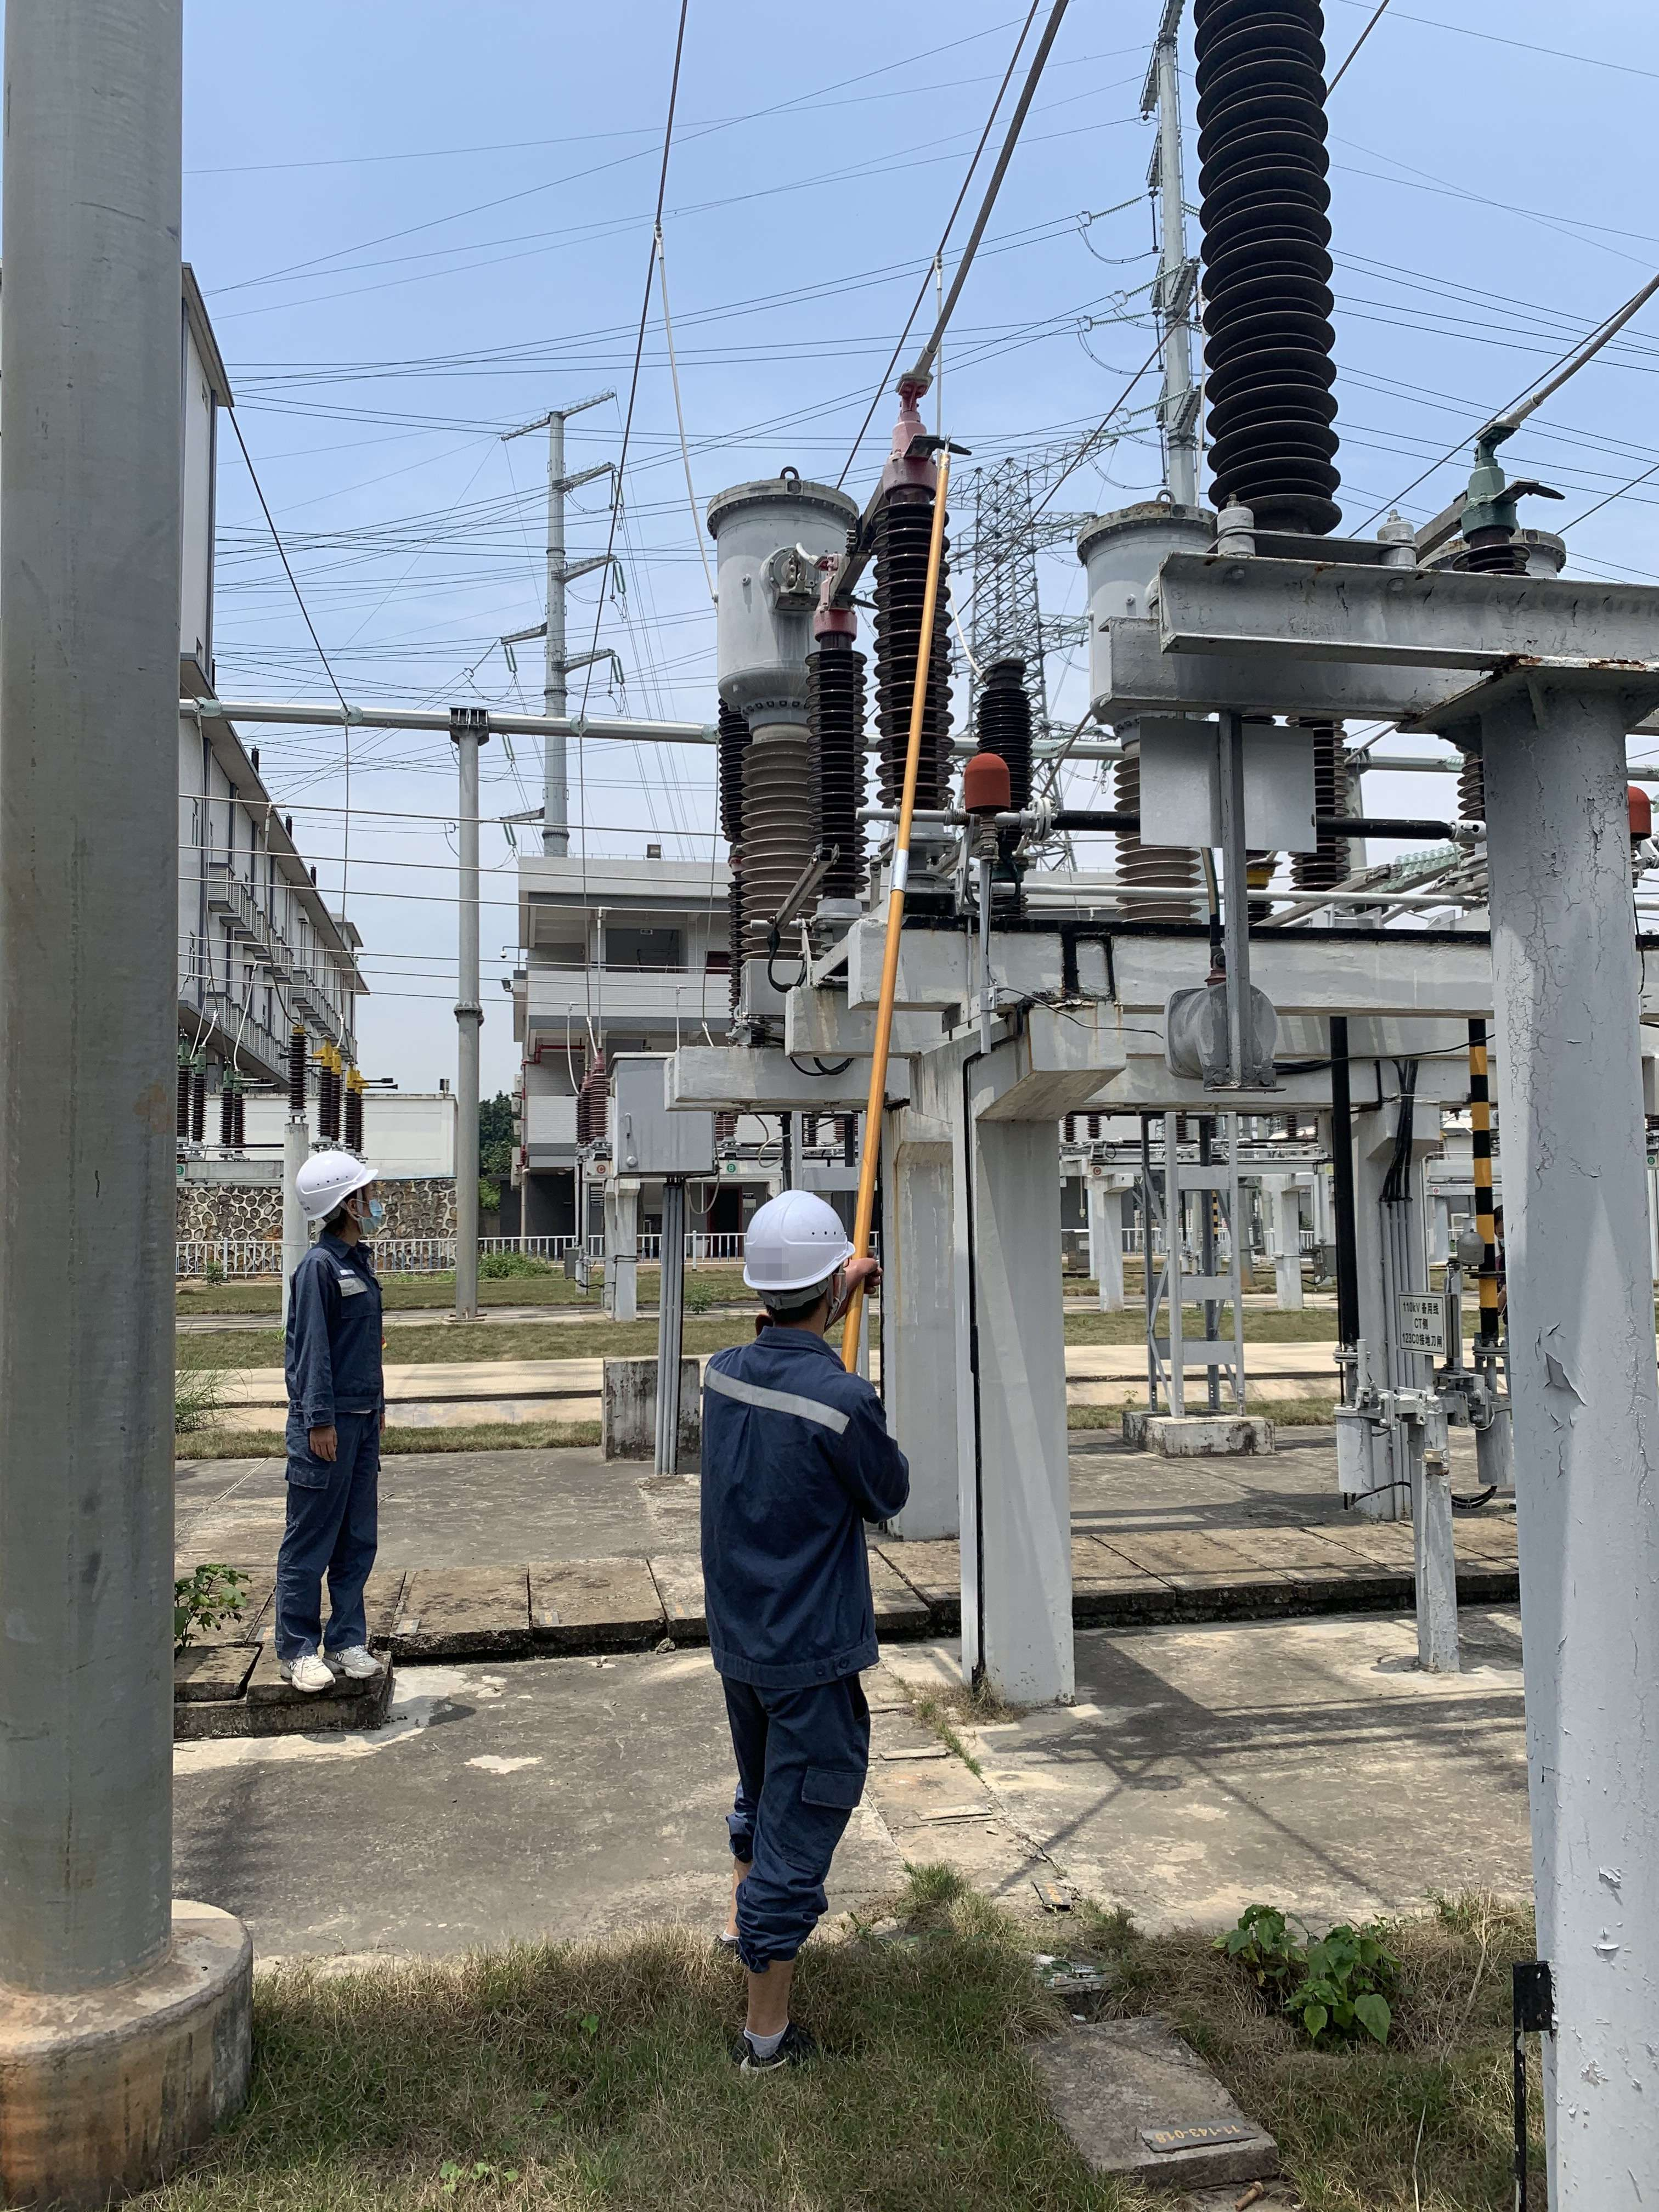downsuit: (720, 1700, 882, 1968), (265, 1432, 390, 1653)
upsuit: (702, 1322, 915, 1651), (281, 1247, 382, 1406)
wrongbottom: (723, 1874, 826, 2045)
